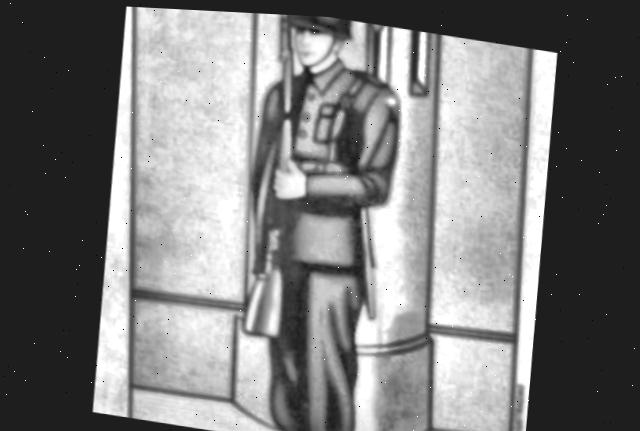El Soldado: (127, 5, 530, 431)
